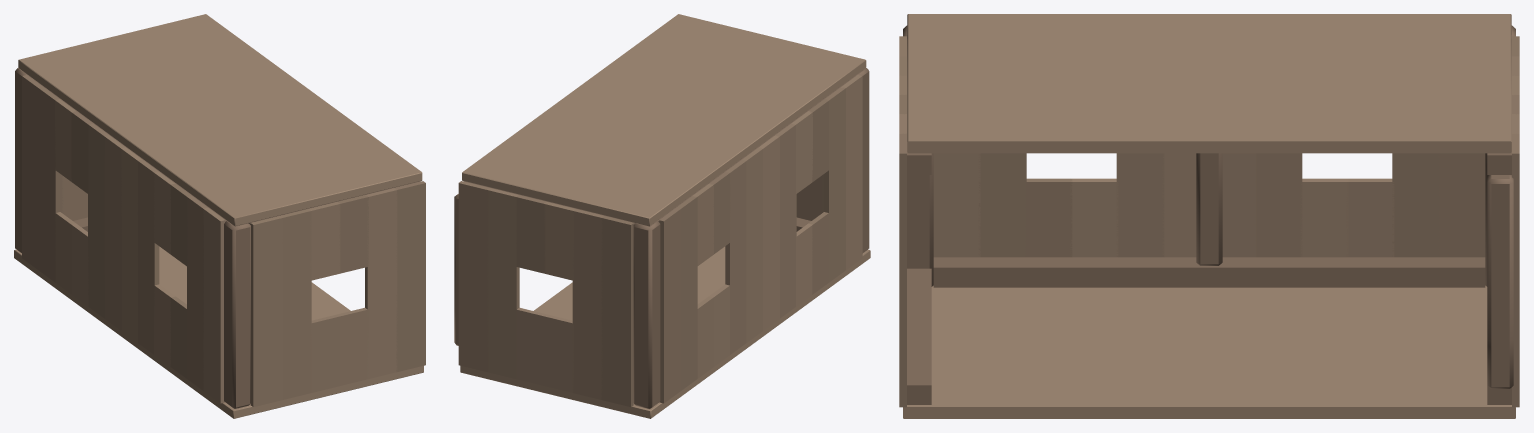
Rendered from Kit_RealTower_CrWdB.fbx.
The picture shows the model from 3 angles, left to right: view 1: azimuth 30°, elevation 25°; view 2: azimuth 150°, elevation 25°; view 3: azimuth 270°, elevation 25°; orthographic projection. The views are drawn at different scales.
Parts seen in each view (by area): view 1: Kit_RealTower_CrWdB_LOD0; view 2: Kit_RealTower_CrWdB_LOD0; view 3: Kit_RealTower_CrWdB_LOD0.
Boxes of the visible parts, left/top/right/bottom form: Kit_RealTower_CrWdB_LOD0: left=14, top=14, right=425, bottom=418; Kit_RealTower_CrWdB_LOD0: left=454, top=14, right=870, bottom=418; Kit_RealTower_CrWdB_LOD0: left=899, top=14, right=1519, bottom=418.
Size of what is drawn, in the model's own units: 1.48 by 1.4 by 2.84.
